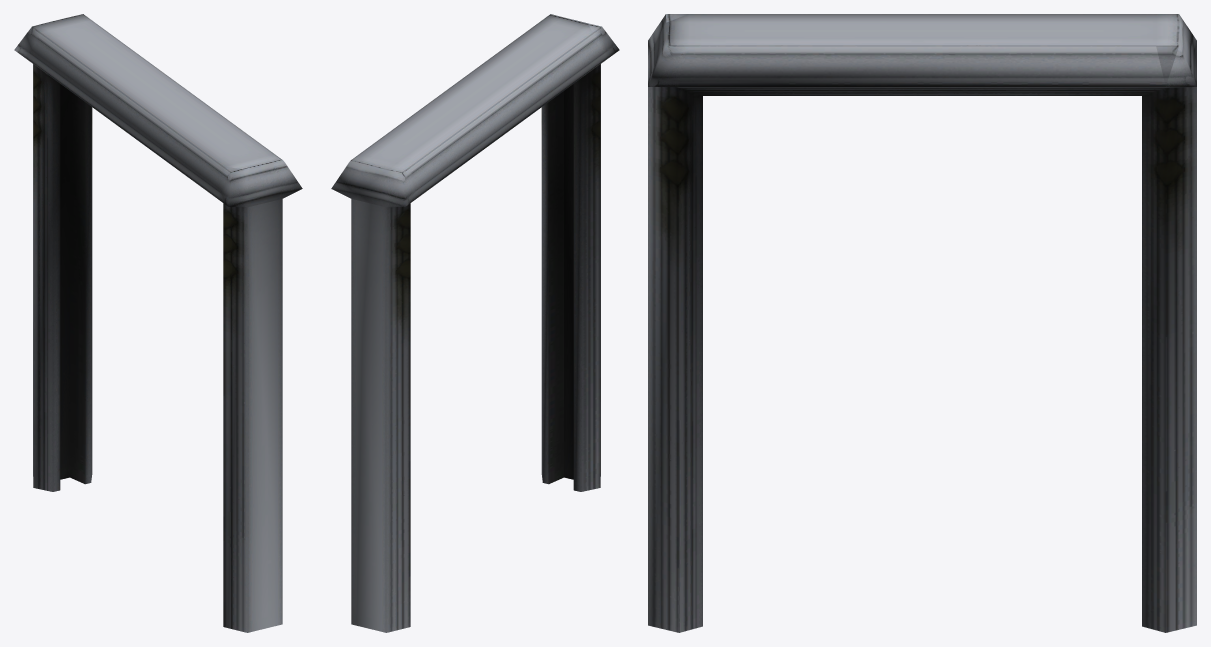
The model's file is High_Rent_Door_Frame.obj.
The picture shows the model from 3 angles, left to right: view 1: azimuth 30°, elevation 25°; view 2: azimuth 150°, elevation 25°; view 3: azimuth 270°, elevation 25°; orthographic projection. The views are drawn at different scales.
Parts seen in each view (by area): view 1: High_Rent_Door_Frame; view 2: High_Rent_Door_Frame; view 3: High_Rent_Door_Frame.
Part boxes in pixels (box(x1,y1,x2,y2)): High_Rent_Door_Frame: box(14, 14, 302, 632); High_Rent_Door_Frame: box(331, 14, 619, 632); High_Rent_Door_Frame: box(648, 14, 1196, 632).
Size of the model in its own units: 48 by 282 by 240.
1 material, 1 textured.
